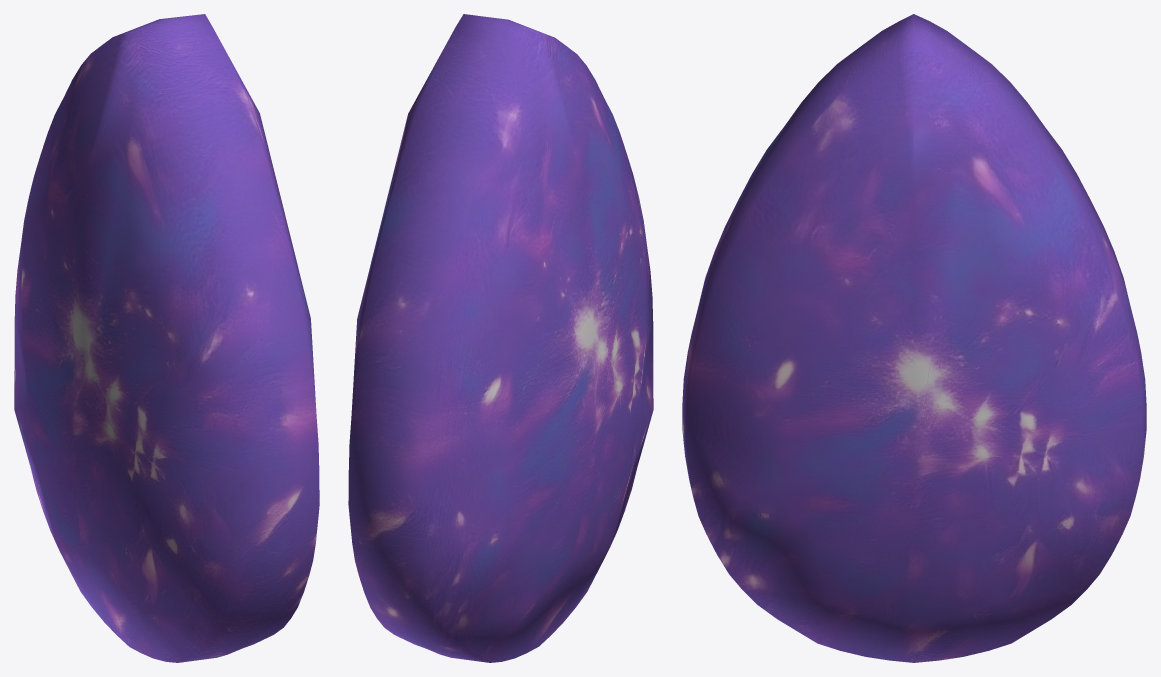
File: purple_gem.glb
3 views of the same model, side by side, from view 1: azimuth 30°, elevation 25°; view 2: azimuth 150°, elevation 25°; view 3: azimuth 270°, elevation 25° (orthographic).
Visible parts, largest first — view 1: tripo_node_e1caa1b8-1a3f-46ab-99e6-5427bd0ede6c; view 2: tripo_node_e1caa1b8-1a3f-46ab-99e6-5427bd0ede6c; view 3: tripo_node_e1caa1b8-1a3f-46ab-99e6-5427bd0ede6c.
Boxes of the visible parts, <box> form: tripo_node_e1caa1b8-1a3f-46ab-99e6-5427bd0ede6c: <box>14,14,319,662</box>; tripo_node_e1caa1b8-1a3f-46ab-99e6-5427bd0ede6c: <box>348,14,653,662</box>; tripo_node_e1caa1b8-1a3f-46ab-99e6-5427bd0ede6c: <box>682,14,1146,662</box>.
Bounding box in the file's own units: 0.3184 × 0.998 × 0.6777.
1 material, 1 textured.
